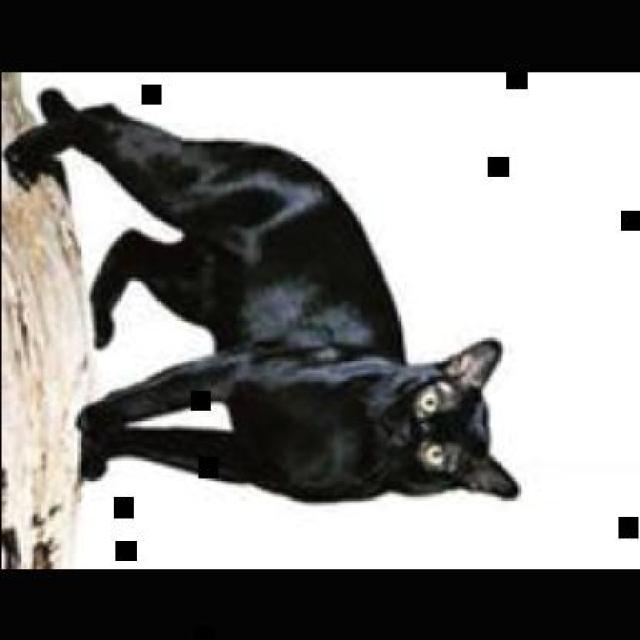unauthorized: (3, 85, 520, 503)
